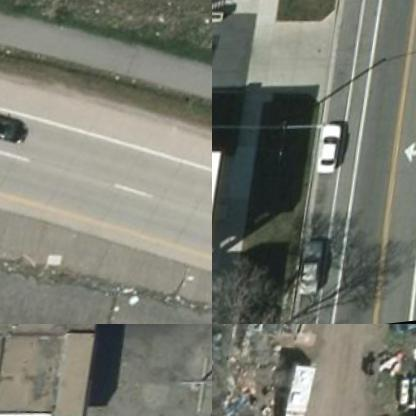car: (0, 97, 36, 154), (301, 242, 331, 304), (314, 122, 346, 178), (282, 368, 317, 415)
